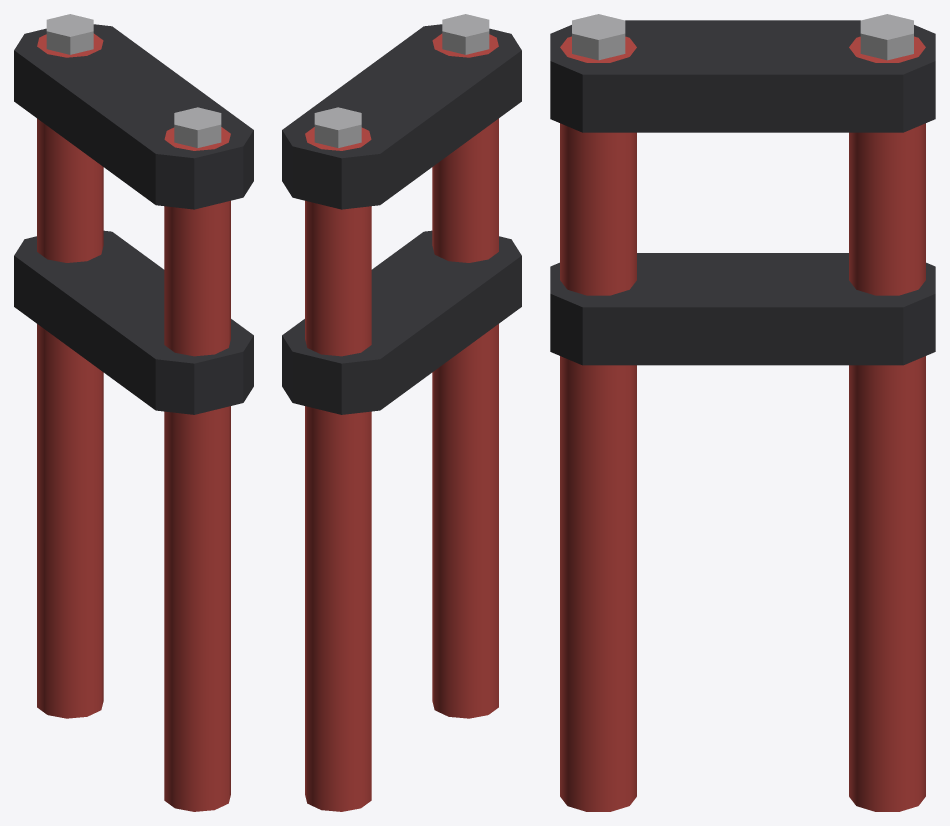
File: mx_vintage_fork_upper_lod1.glb
3 views of the same model, side by side, from view 1: azimuth 30°, elevation 25°; view 2: azimuth 150°, elevation 25°; view 3: azimuth 270°, elevation 25° (orthographic). The views are drawn at different scales.
Visible parts, largest first — view 1: mx_vintage_fork_upper_lod1; view 2: mx_vintage_fork_upper_lod1; view 3: mx_vintage_fork_upper_lod1.
Boxes of the visible parts, x1,y1,x2,y2 form: mx_vintage_fork_upper_lod1: (14,14,253,811); mx_vintage_fork_upper_lod1: (282,14,521,811); mx_vintage_fork_upper_lod1: (550,14,935,811).
Bounding box in the file's own units: 0.08 × 0.529 × 0.24.
